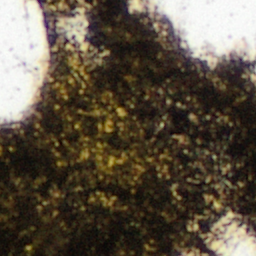cement_matrix: (0, 0, 255, 255), (55, 4, 89, 53)
gravel_crushed_stones: (129, 0, 255, 82), (0, 0, 46, 120), (208, 213, 255, 255), (56, 5, 88, 52), (180, 252, 200, 255)
